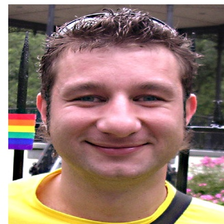no_mask: (54, 47, 185, 176)
